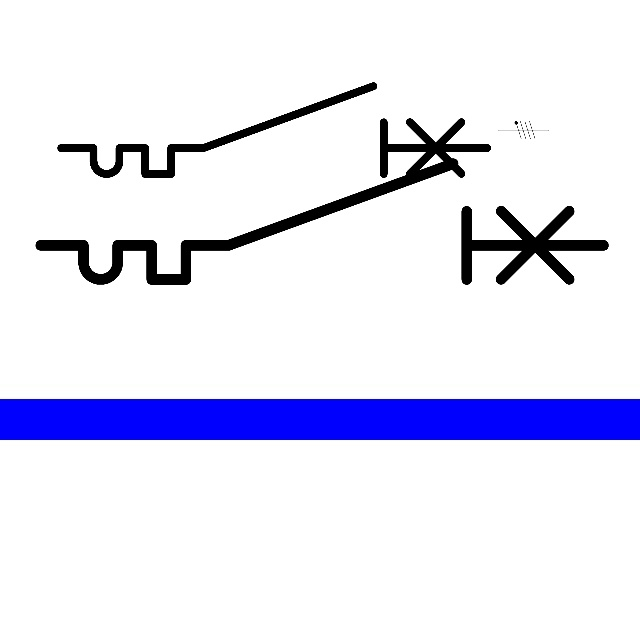interruptor_termomagnetico: (26, 149, 618, 294), (50, 75, 498, 185)
